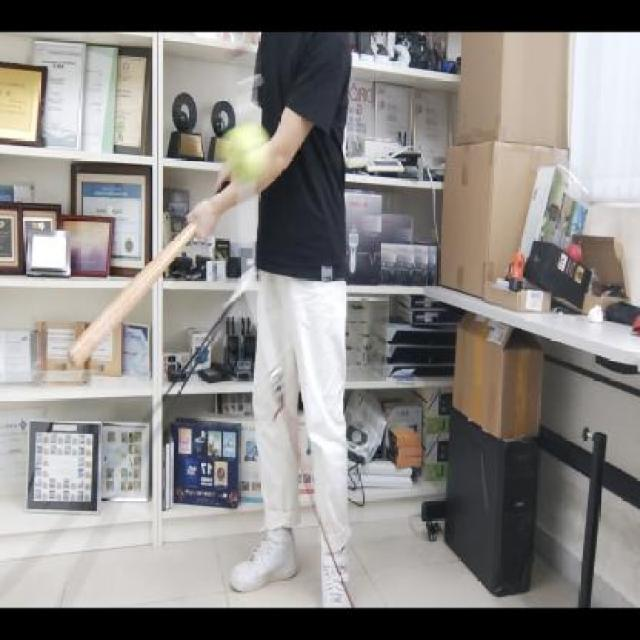baseball: (224, 119, 271, 184)
